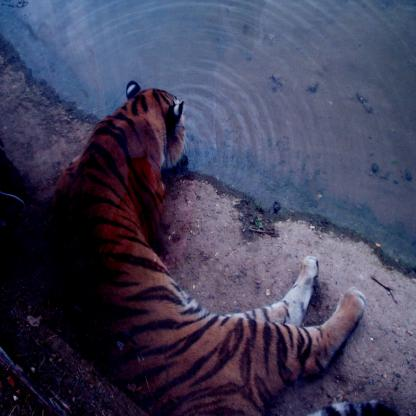tiger: (128, 80, 196, 168)
